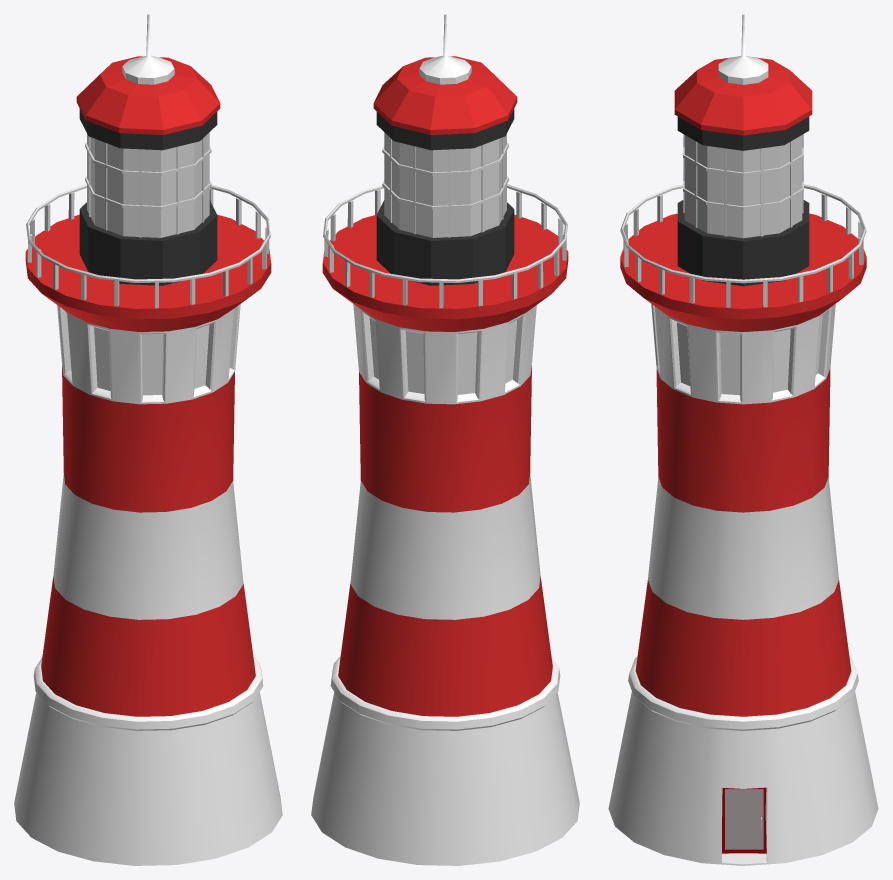
File: lighthouse.fbx
3 renders of one model, left to right at view 1: azimuth 30°, elevation 25°; view 2: azimuth 150°, elevation 25°; view 3: azimuth 270°, elevation 25°, orthographic.
Visible parts, largest first — view 1: lighthouse_main, GlassBlock, polySurface1, pCylinder3, pCylinder5, pCylinder2, polySurface2, pCylinder12, pCylinder11; view 2: lighthouse_main, GlassBlock, polySurface1, pCylinder3, pCylinder5, pCylinder2, polySurface2, pCylinder12, pCylinder11; view 3: lighthouse_main, GlassBlock, polySurface1, pCylinder3, Door, pCylinder5, pCylinder2, polySurface2, Door_background, pCylinder12, pCylinder11.
Boxes of the visible parts, x1,y1,x2,y2 form: lighthouse_main: (14, 214, 282, 865); GlassBlock: (87, 132, 209, 237); polySurface1: (76, 56, 220, 134); pCylinder3: (79, 200, 217, 285); pCylinder5: (79, 109, 217, 150); pCylinder2: (26, 184, 270, 282); polySurface2: (122, 14, 174, 84); pCylinder12: (85, 176, 211, 209); pCylinder11: (85, 142, 211, 175); lighthouse_main: (311, 214, 579, 865); GlassBlock: (384, 132, 506, 237); polySurface1: (373, 56, 517, 134); pCylinder3: (376, 200, 514, 285); pCylinder5: (376, 109, 514, 150); pCylinder2: (323, 184, 567, 282); polySurface2: (419, 14, 471, 84); pCylinder12: (382, 176, 508, 209); pCylinder11: (382, 142, 508, 175); lighthouse_main: (608, 213, 878, 865); GlassBlock: (684, 135, 802, 238); polySurface1: (674, 57, 812, 135); pCylinder3: (677, 200, 809, 286); Door: (725, 789, 763, 849); pCylinder5: (677, 116, 809, 150); pCylinder2: (620, 184, 866, 283); polySurface2: (718, 14, 768, 84); Door_background: (722, 787, 766, 853); pCylinder12: (683, 172, 803, 209); pCylinder11: (683, 138, 803, 175).
Bounding box in the file's own units: 8.32 × 27.02 × 8.32.
